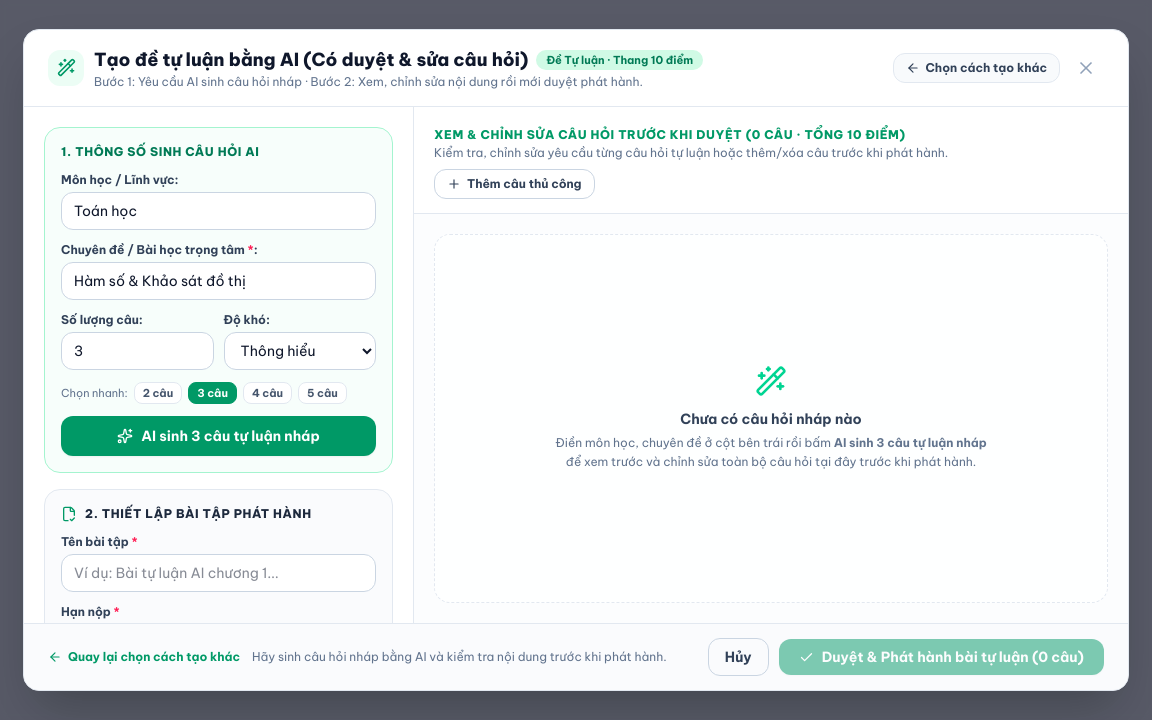
AiExamBuilderModal › sinh đúng câu hỏi tự luận khi giảng viên chọn Đề Tự luận từ đầu và phát hành thành bài tập tự luận
Later steps or results of the test are not shown.
Expected: the heading "Tạo đề tự luận bằng AI (Có duyệt & sửa câu hỏi)" is shown, [94,46,528,74]
What coordinates should you click on to do the following:
click the button "Chọn cách tạo khác"
I would click on:
 (976, 68)
Its box is [892,53,1060,83].
What coordinates should you click on to do the following:
click the button "2 câu"
I would click on:
 (158, 393)
Its box is [134,382,182,404].
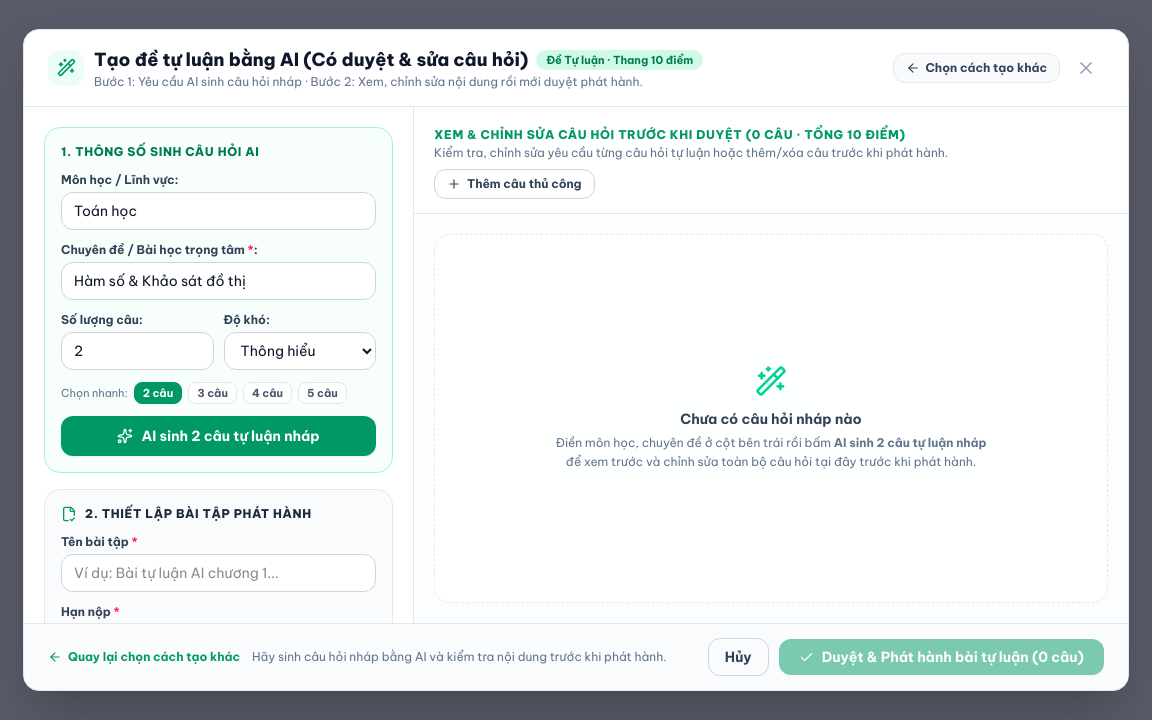
What coordinates should you click on to do the following:
click the button "AI sinh 2 câu tự luận nháp"
I would click on:
 (218, 436)
Its box is [61,416,376,456].
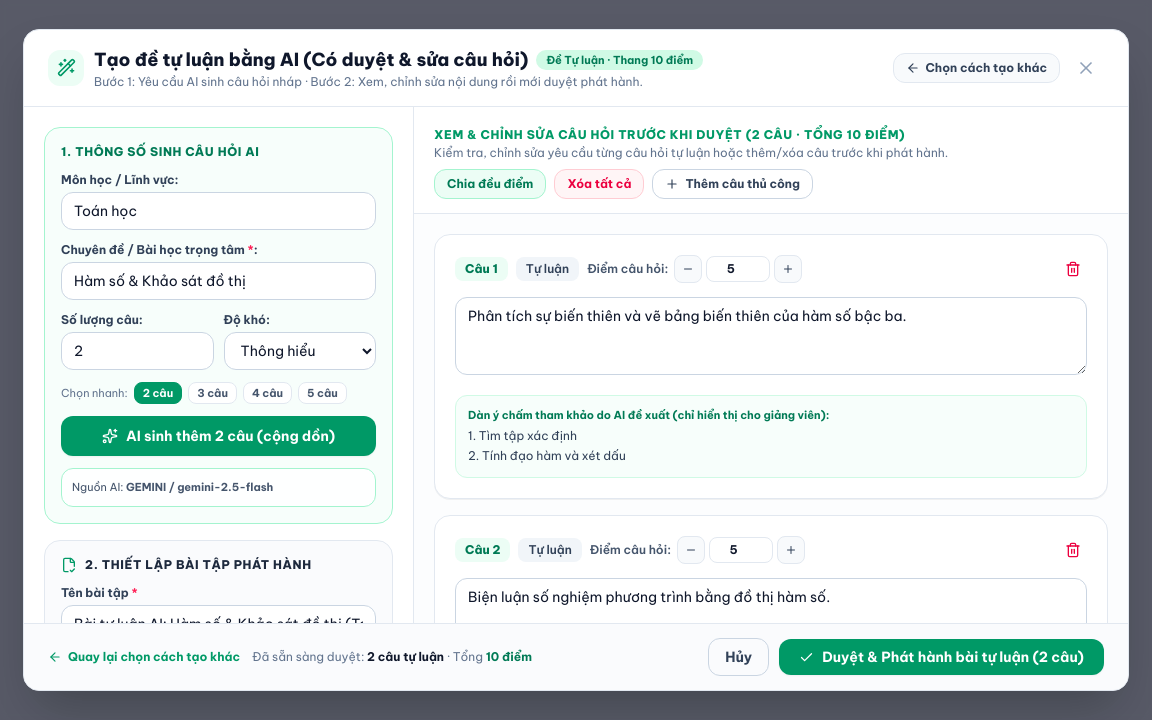
Expected: the text box showing "Phân tích sự biến thiên và vẽ bảng biến thiên của hàm số bậc ba." is shown, [455,297,1087,375]
Expected: the text "1. Tìm tập xác định 2. Tính đạo hàm và xét dấu" is shown, [468,428,626,463]
Expected: the number field named "Điểm câu 1" holds "5", [706,256,770,282]
What coordinates should you click on to do the following:
click the button named "Tăng 0,25 câu 1"
I would click on:
 (788, 269)
Its box is [774,255,802,283].
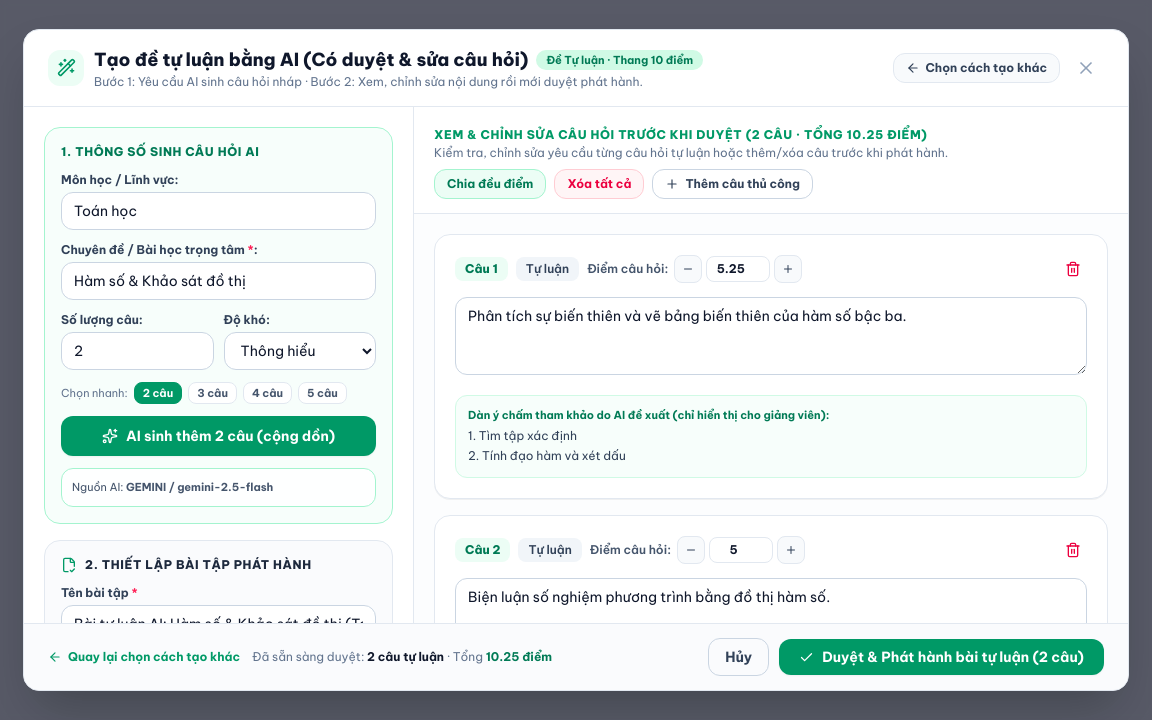
Expected: the number field named "Điểm câu 1" holds "5.25", [706,256,770,282]
